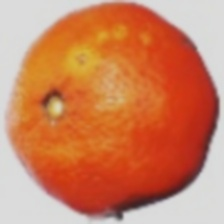tangerine: (41, 9, 217, 190)
